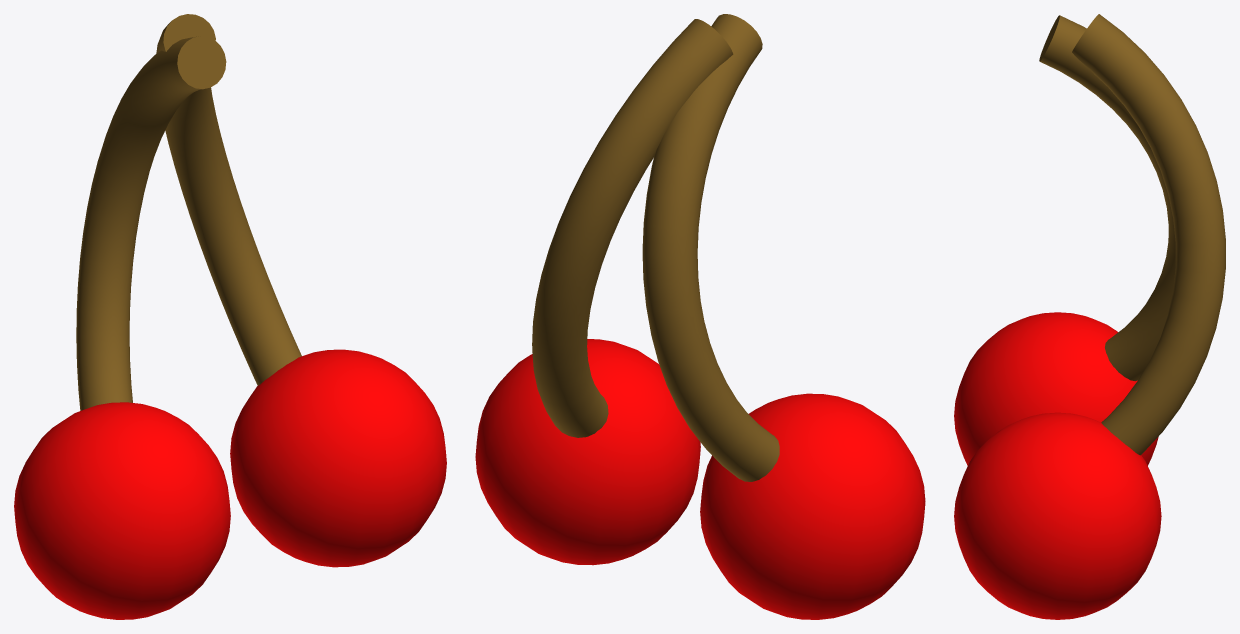
File: cherry.obj
The picture shows the model from 3 angles, left to right: view 1: azimuth 30°, elevation 25°; view 2: azimuth 150°, elevation 25°; view 3: azimuth 270°, elevation 25°; orthographic projection. The views are drawn at different scales.
Visible parts, largest first — view 1: pSphere1, pSphere2, pCylinder1, pCylinder2; view 2: pSphere1, pSphere2, pCylinder1, pCylinder2; view 3: pSphere2, pCylinder2, pSphere1, pCylinder1.
Boxes of the visible parts, x1=… form: pSphere1: x1=14, y1=402, x2=230, y2=619; pSphere2: x1=230, y1=349, x2=446, y2=567; pCylinder1: x1=76, y1=36, x2=226, y2=410; pCylinder2: x1=156, y1=14, x2=301, y2=385; pSphere1: x1=700, y1=393, x2=925, y2=619; pSphere2: x1=475, y1=339, x2=700, y2=565; pCylinder1: x1=642, y1=14, x2=779, y2=481; pCylinder2: x1=532, y1=19, x2=733, y2=437; pSphere2: x1=954, y1=412, x2=1161, y2=619; pCylinder2: x1=1072, y1=14, x2=1225, y2=455; pSphere1: x1=954, y1=312, x2=1158, y2=465; pCylinder1: x1=1039, y1=15, x2=1175, y2=381.
Size of the model in its own units: 8.06 by 10.66 by 4.93.
